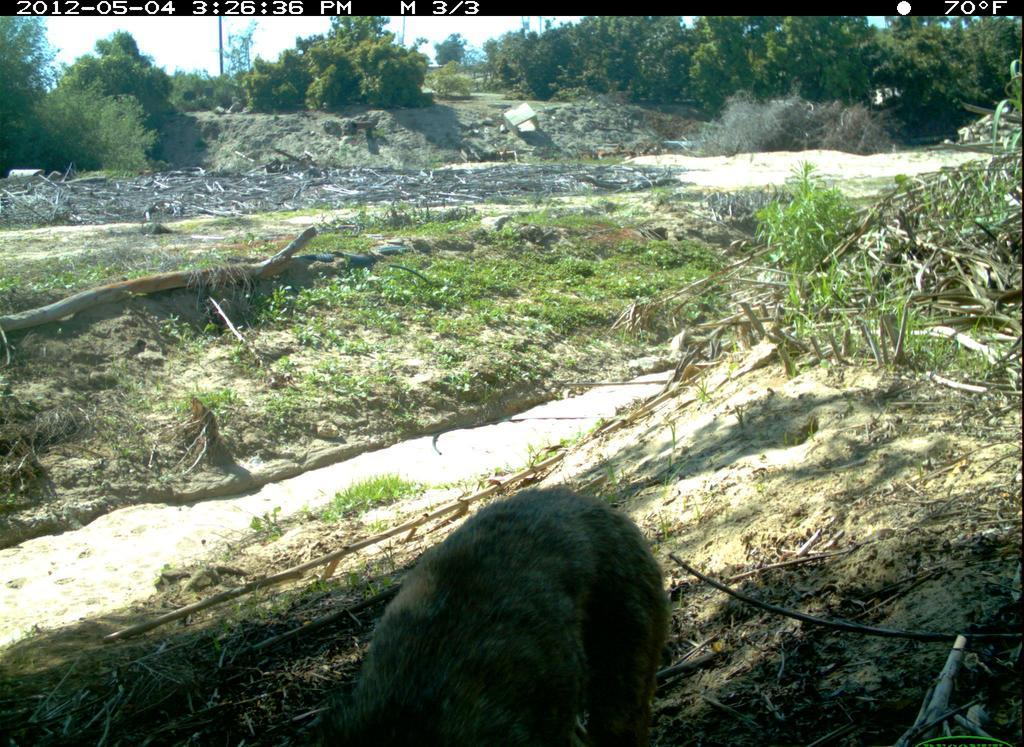coyote: (306, 475, 671, 747)
